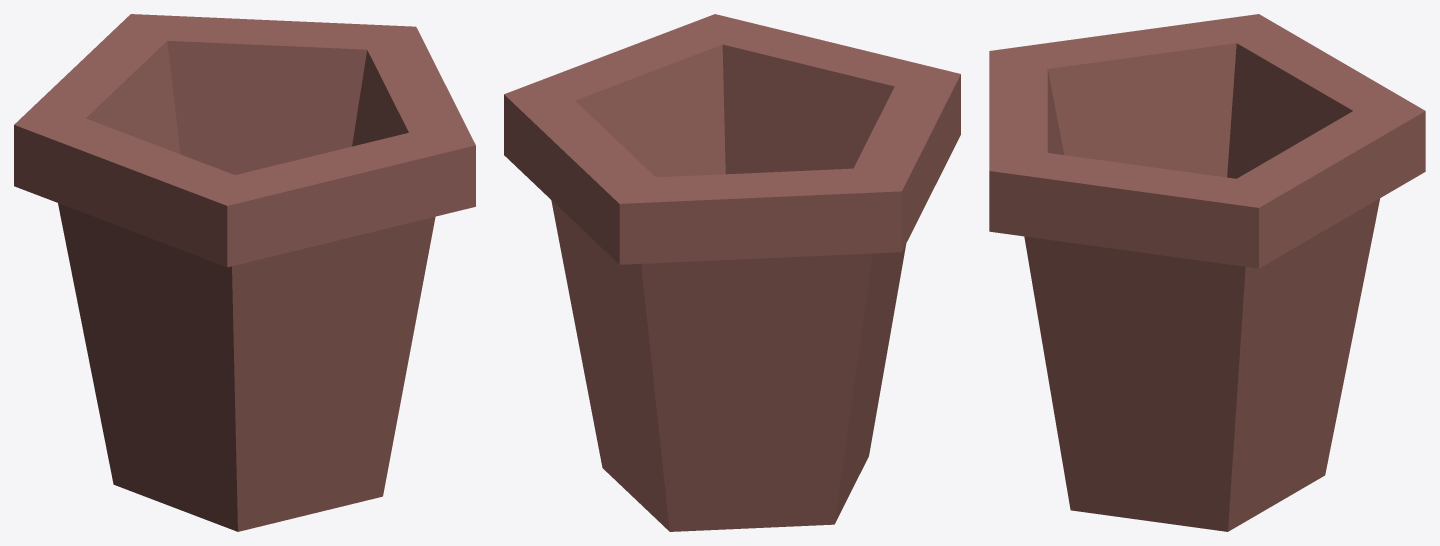
Rendered from FlowerPot.dae.
3 views of the same model, side by side, from view 1: azimuth 30°, elevation 25°; view 2: azimuth 150°, elevation 25°; view 3: azimuth 270°, elevation 25° (orthographic).
Parts seen in each view (by area): view 1: FlowerPot; view 2: FlowerPot; view 3: FlowerPot.
Part boxes in pixels (x1,y1,x2,y2): FlowerPot: (14,14,475,531); FlowerPot: (504,14,960,531); FlowerPot: (989,14,1425,531).
Bounding box in the file's own units: 1.37 × 1.3 × 1.2.
